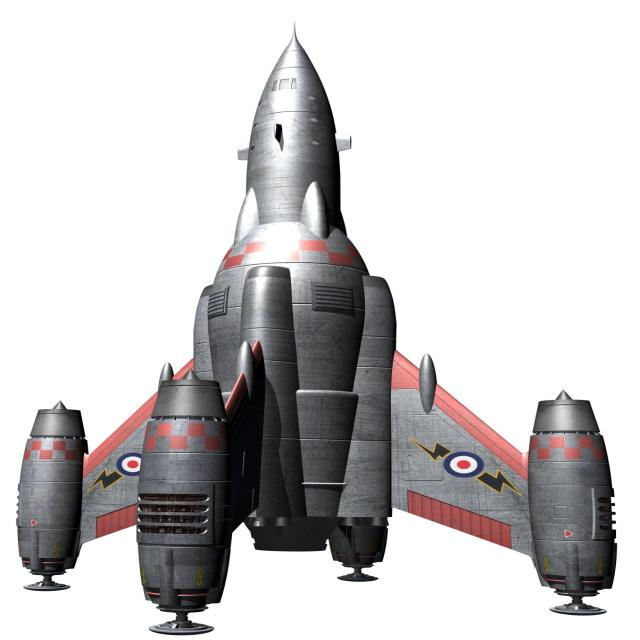rocket: (17, 19, 623, 631)
